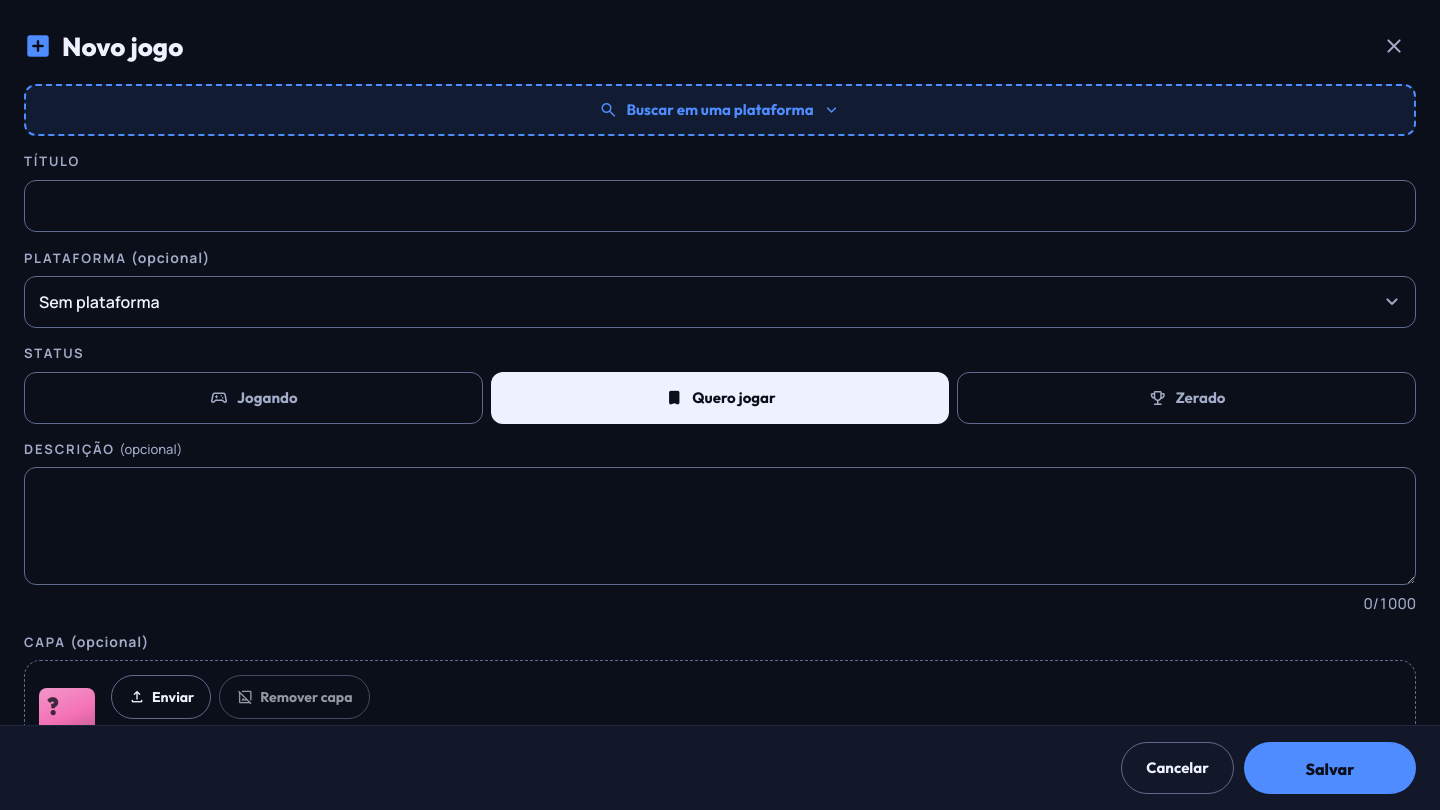
Test case: GameForm — Buscar na Steam e Buscar na PlayStation (CA-32 a CA-36) › só a PlayStation vinculada: a lista tem só ela
The image size is (1440, 810).
What coordinates should you click on to do the following:
click the button "Buscar em uma plataforma"
I would click on:
 (720, 110)
Its box is [24,84,1416,136].
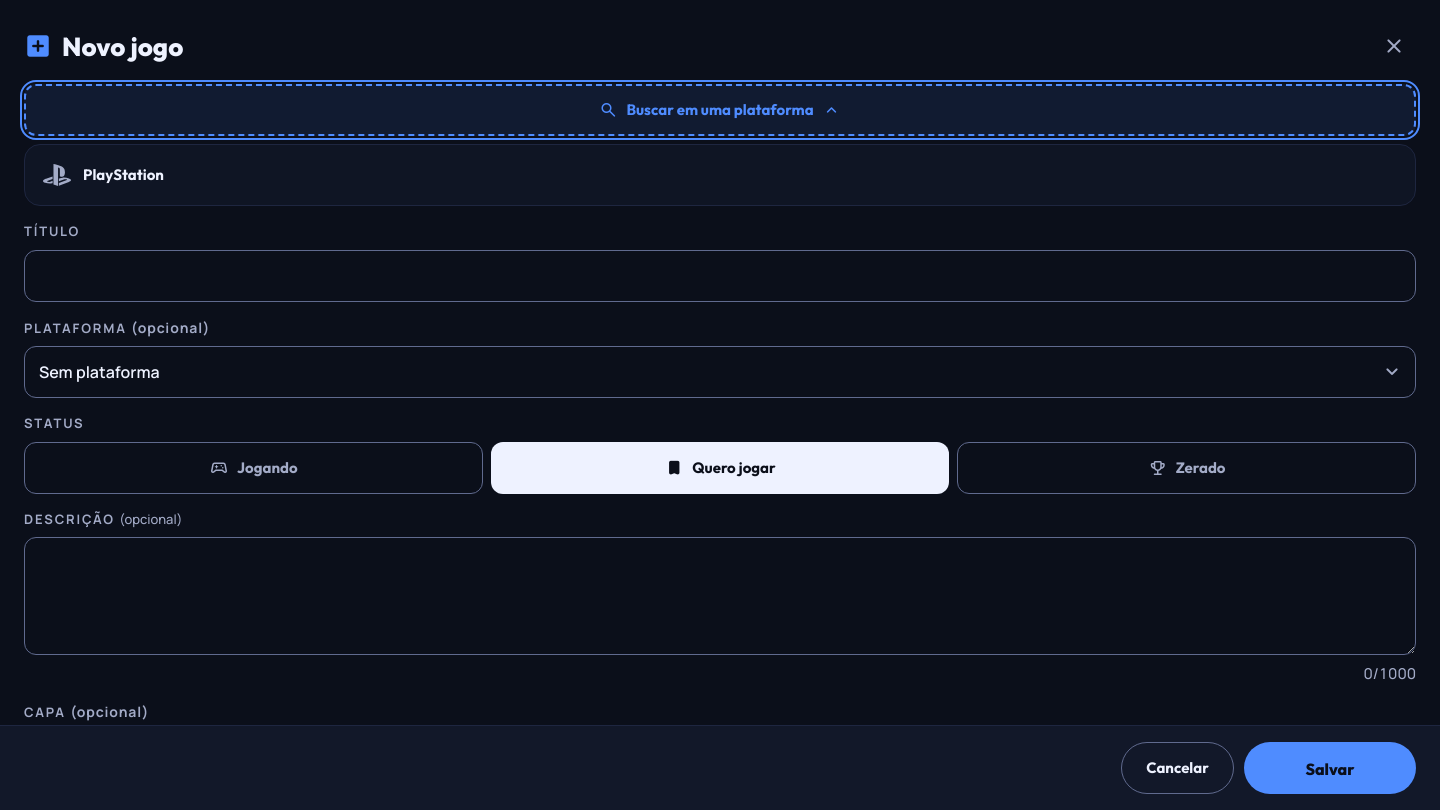
Now the menu items read "PlayStation", in this order, box [31,151,1409,199]
